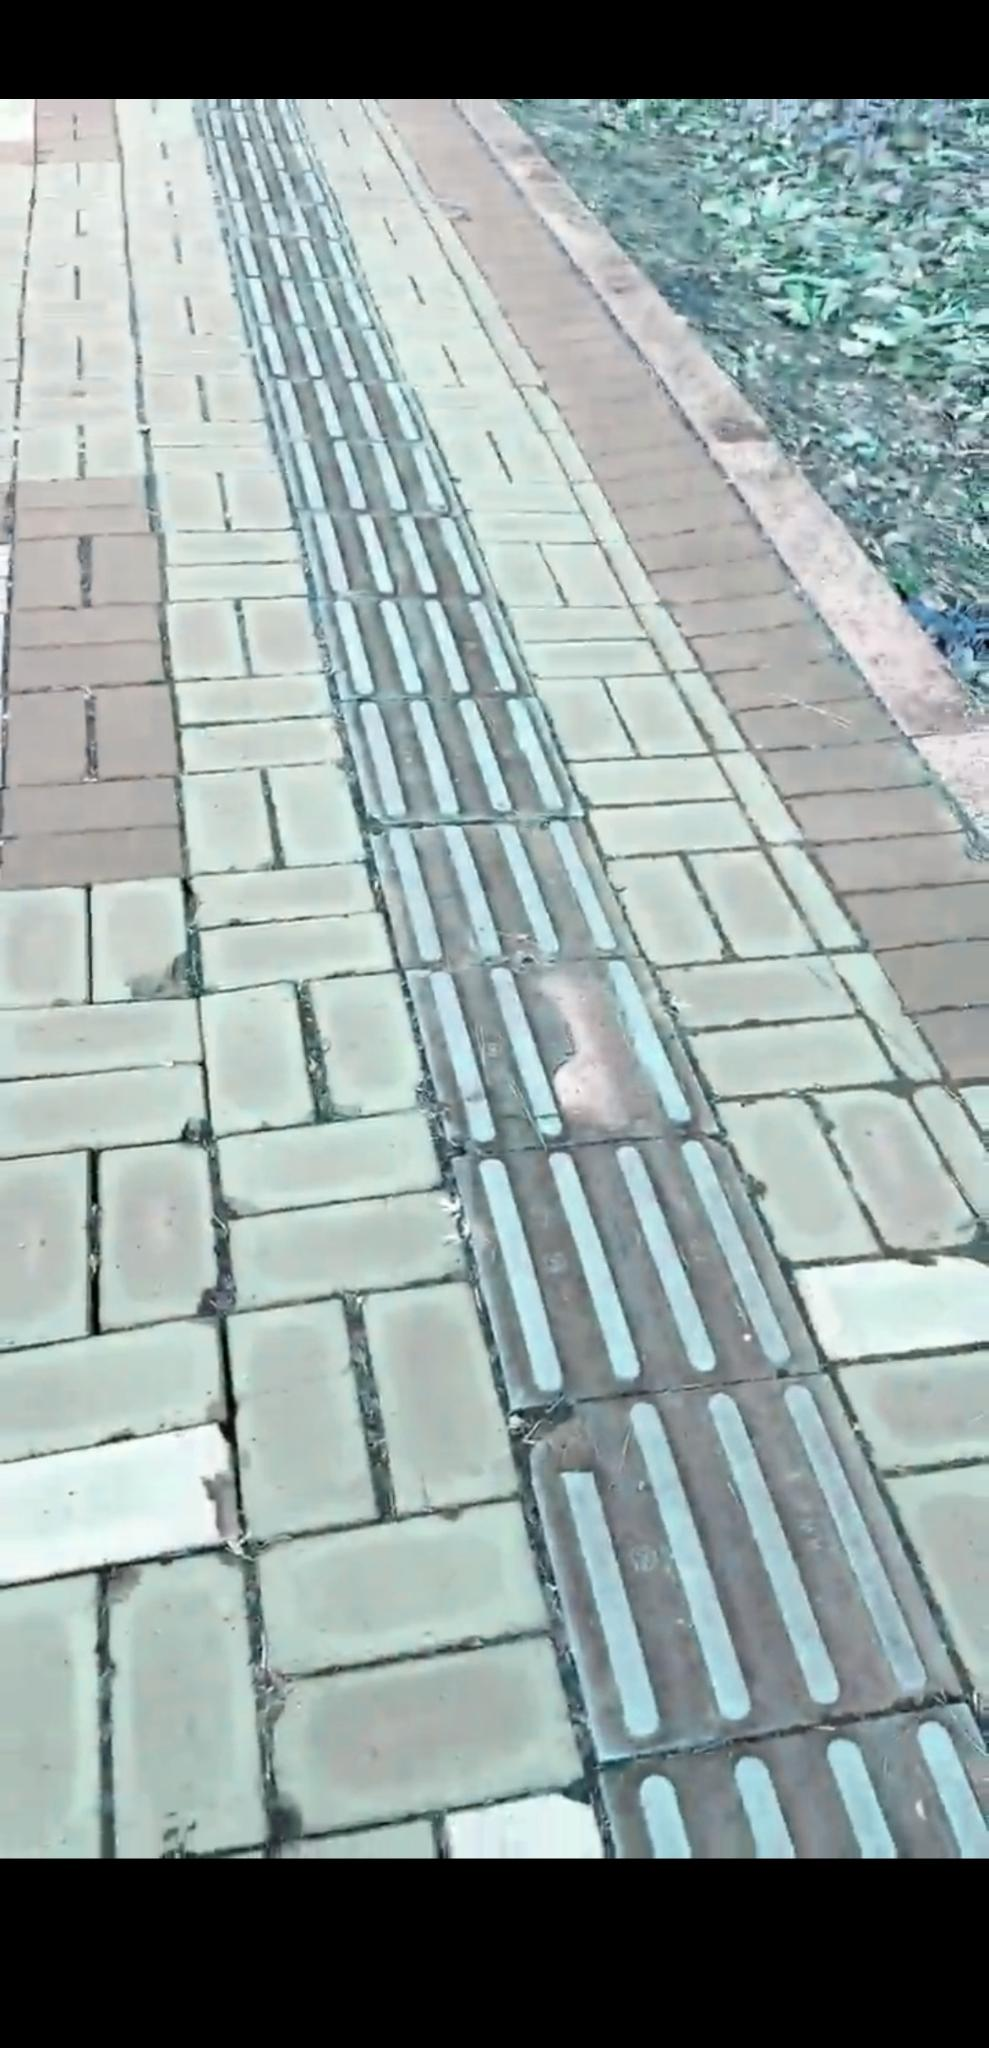Straight block broken: (513, 1375, 963, 1759), (408, 959, 721, 1152)
Straight block normal: (456, 1138, 820, 1407), (368, 820, 639, 964), (342, 697, 581, 825), (319, 597, 533, 700)
